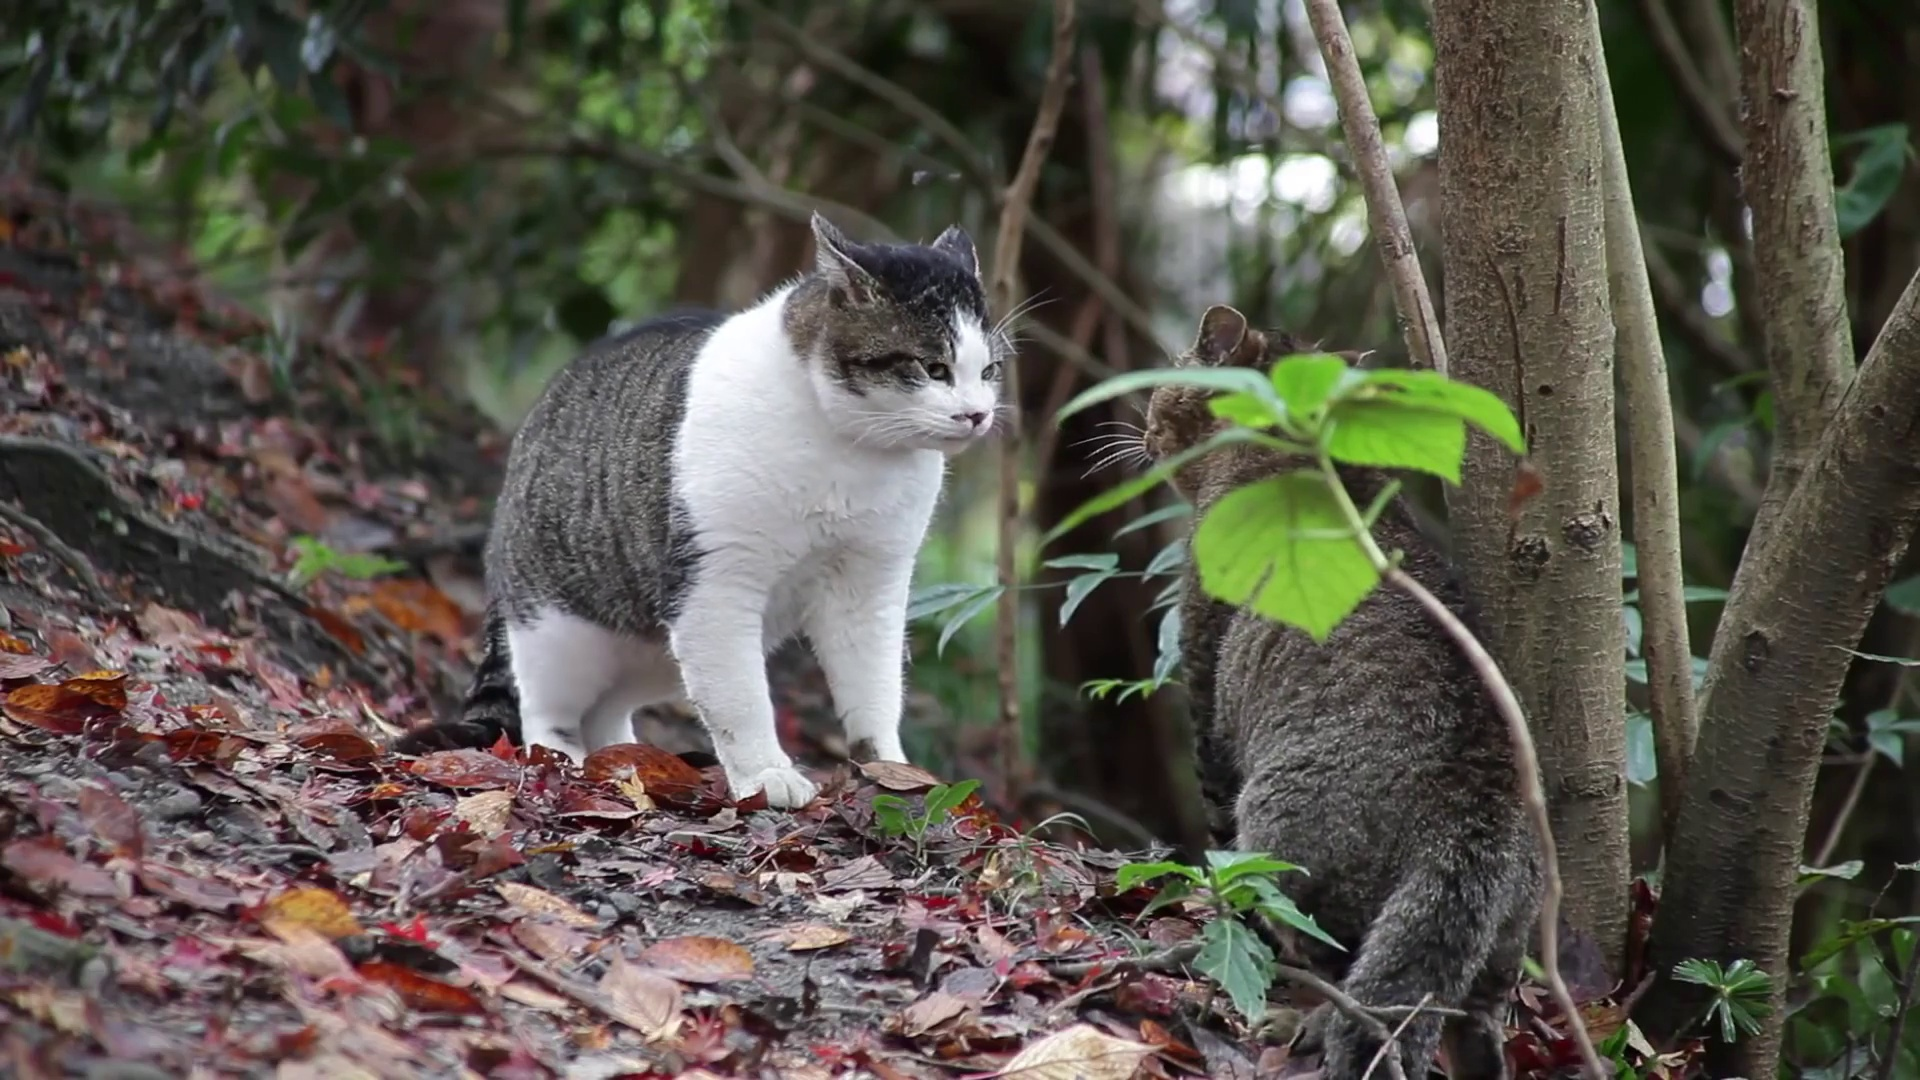black-white: (392, 210, 1000, 814)
pure black: (1139, 303, 1544, 1080)
